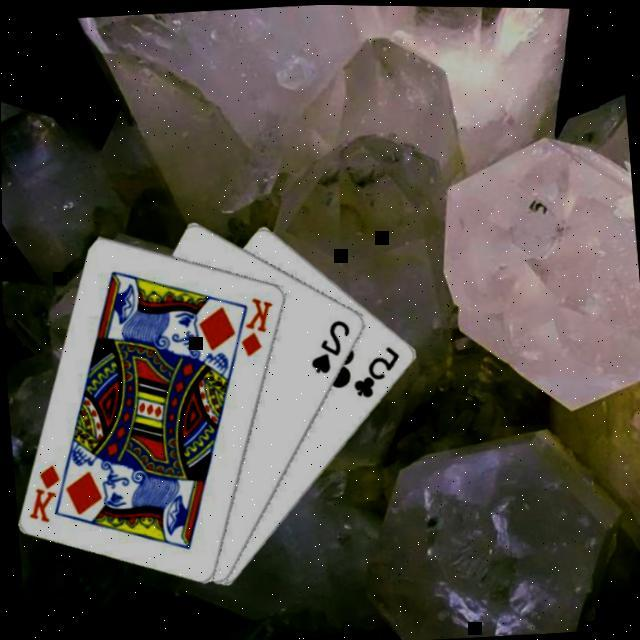2S: (306, 314, 357, 376)
5C: (348, 340, 406, 400)
KD: (236, 290, 280, 359), (23, 459, 66, 525)
